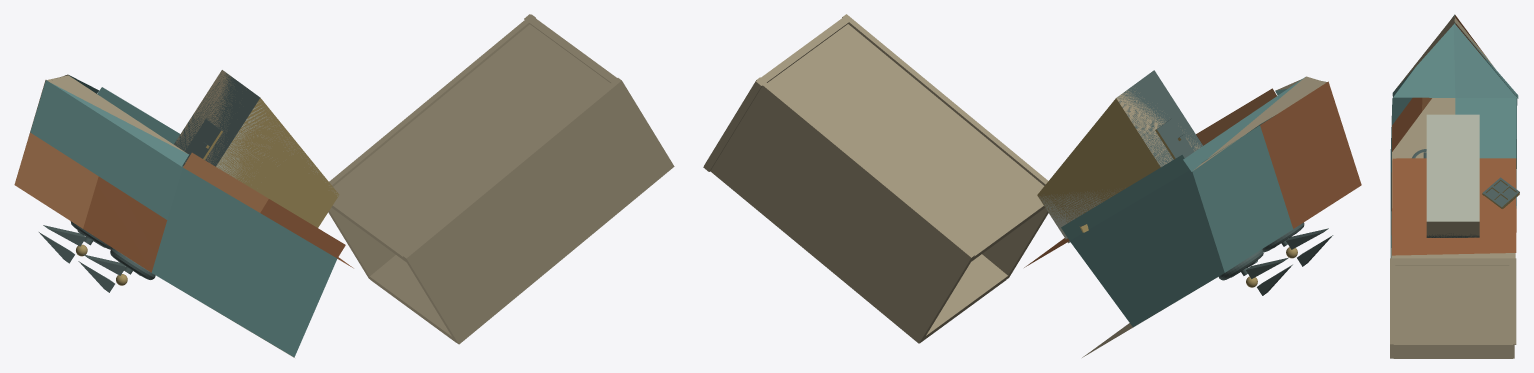
File: Break_Ship.gltf
3 renders of one model, left to right at view 1: azimuth 30°, elevation 25°; view 2: azimuth 150°, elevation 25°; view 3: azimuth 270°, elevation 25°, orthographic. The views are drawn at different scales.
Visible parts, largest first — view 1: 立方体.005, 立方体.008, 立方体, MainShip_Face_0021, MainShip_Face_0022, MainShip_Face_0053, MainShip_Face_0052, MainShip_Face_0056, MainShip_Face_0008, MainShip_Face_0055, MainShip_Face_0061, 立方体.006 (+9 smaller); view 2: 立方体.006, 立方体.008, MainShip_Face_0012, 立方体, MainShip_Face_0046, MainShip_Face_0032, 立方体.005, MainShip_Face_0039.001, MainShip_Face_0039, 立方体.009, 立方体.007, 立方体_Face_0001 (+3 smaller); view 3: 立方体.007, 立方体_Face_0006, MainShip_Face_0078, MainShip_Face_0073, MainShip_Face_0077, 立方体.009, MainShip_Face_0072, MainShip_Face_0071, MainShip_Face_0070, MainShip_Face_0069, 立方体_Face_0003, MainShip_Face_0056 (+18 smaller).
Part boxes in pixels (x1,y1,x2,y2): 立方体.005: (403, 78, 674, 344); 立方体.008: (331, 24, 610, 262); 立方体: (174, 70, 339, 227); MainShip_Face_0021: (242, 213, 337, 307); MainShip_Face_0022: (167, 168, 259, 263); MainShip_Face_0053: (223, 264, 315, 357); MainShip_Face_0052: (151, 220, 241, 314); MainShip_Face_0056: (83, 176, 167, 272); MainShip_Face_0008: (30, 80, 113, 175); MainShip_Face_0055: (14, 132, 98, 228); MainShip_Face_0061: (99, 124, 182, 219); 立方体.006: (328, 14, 535, 280); 立方体.006: (704, 77, 974, 343); 立方体.008: (767, 24, 1044, 263); MainShip_Face_0012: (1070, 170, 1224, 327); 立方体: (1037, 70, 1202, 224); MainShip_Face_0046: (1260, 81, 1361, 228); MainShip_Face_0032: (1192, 125, 1292, 272); 立方体.005: (842, 14, 1048, 279); MainShip_Face_0039.001: (1183, 76, 1326, 171); MainShip_Face_0039: (1061, 155, 1189, 240); 立方体.009: (920, 254, 1008, 342); 立方体.007: (703, 17, 851, 171); 立方体_Face_0001: (1116, 90, 1200, 166); 立方体.007: (1390, 258, 1516, 344); 立方体_Face_0006: (1426, 114, 1479, 221); MainShip_Face_0078: (1455, 98, 1516, 158); MainShip_Face_0073: (1393, 15, 1455, 97); MainShip_Face_0077: (1453, 22, 1516, 97); 立方体.009: (1393, 339, 1512, 358); MainShip_Face_0072: (1392, 207, 1454, 255); MainShip_Face_0071: (1454, 209, 1516, 254); MainShip_Face_0070: (1392, 158, 1426, 207); MainShip_Face_0069: (1479, 158, 1516, 209); 立方体_Face_0003: (1426, 221, 1479, 237); MainShip_Face_0056: (1392, 97, 1422, 151).
Size of what is drawn, in the model's own units: 11.36 by 5.67 by 3.01.
